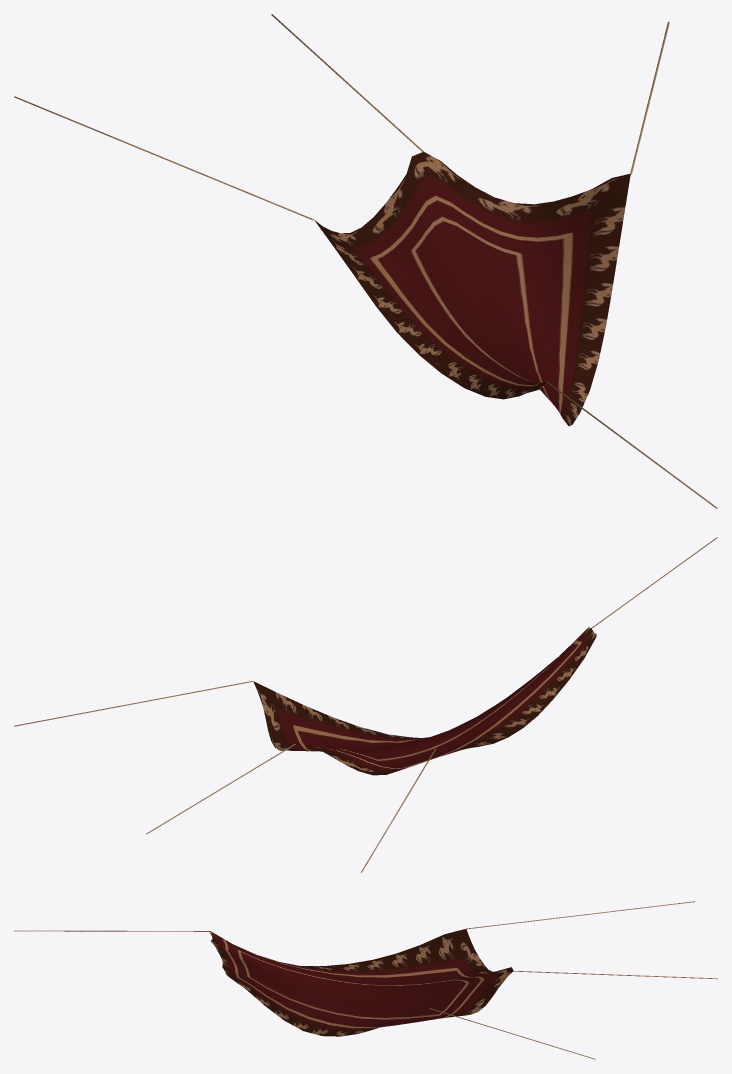
The model's file is SM_Large_tent.glb.
The picture shows the model from 3 angles, top to bottom: view 1: azimuth 30°, elevation 25°; view 2: azimuth 150°, elevation 25°; view 3: azimuth 270°, elevation 25°; orthographic projection. The views are drawn at different scales.
Parts seen in each view (by area): view 1: SM_Large_tent; view 2: SM_Large_tent; view 3: SM_Large_tent.
Boxes of the visible parts, bbox=[...] form: SM_Large_tent: bbox=[14, 14, 717, 508]; SM_Large_tent: bbox=[14, 537, 717, 872]; SM_Large_tent: bbox=[14, 901, 717, 1059].
Bounding box in the file's own units: 74.63 × 14.99 × 141.
Materials: 2 (2 with a texture image).
